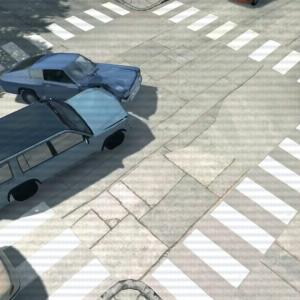moderate: (0, 49, 146, 215)
